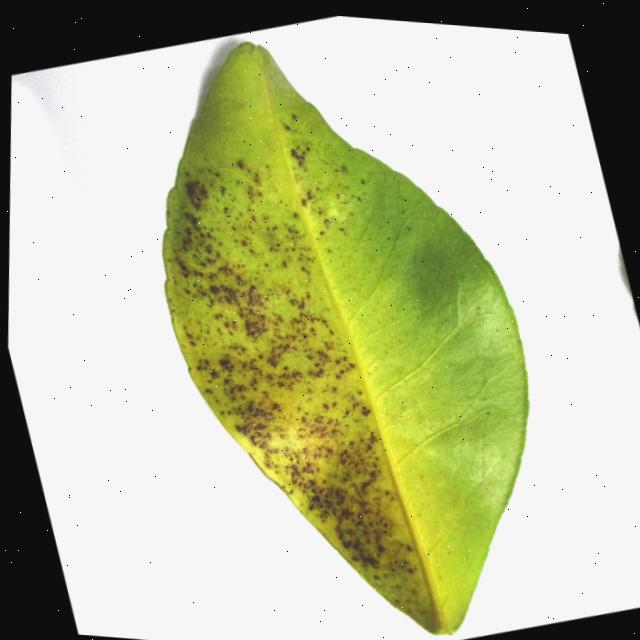melanose: (162, 42, 527, 633)
